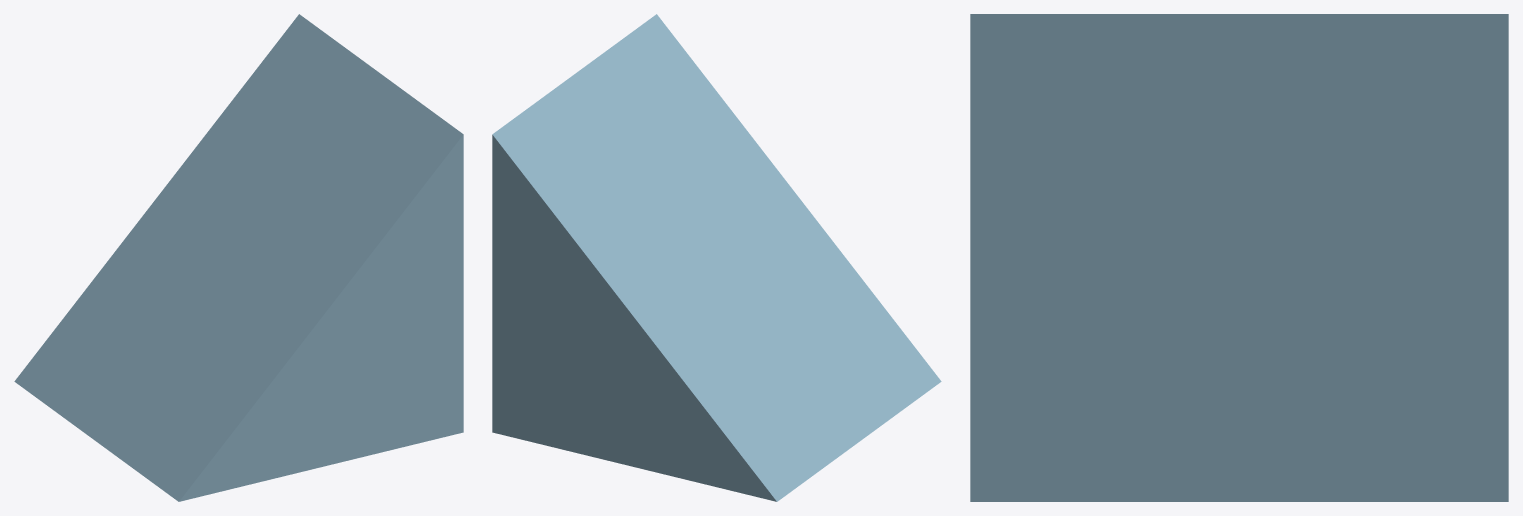
The model's file is Conveyor_Slope.glb.
The picture shows the model from 3 angles, left to right: view 1: azimuth 30°, elevation 25°; view 2: azimuth 150°, elevation 25°; view 3: azimuth 270°, elevation 25°; orthographic projection. The views are drawn at different scales.
Parts seen in each view (by area): view 1: Conveyor_Slope_body; view 2: Conveyor_Slope_body; view 3: Conveyor_Slope_body.
Part boxes in pixels (bbox=[...]): Conveyor_Slope_body: bbox=[14, 14, 463, 501]; Conveyor_Slope_body: bbox=[492, 14, 941, 501]; Conveyor_Slope_body: bbox=[970, 14, 1508, 501].
Size of the model in its own units: 1 by 1 by 1.
